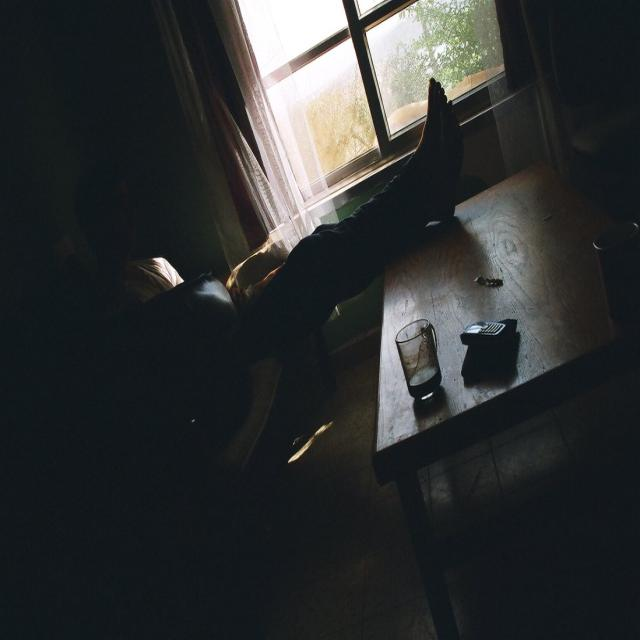Cup: (398, 294, 446, 411)
People: (0, 62, 476, 437)
Table: (346, 109, 623, 523)
